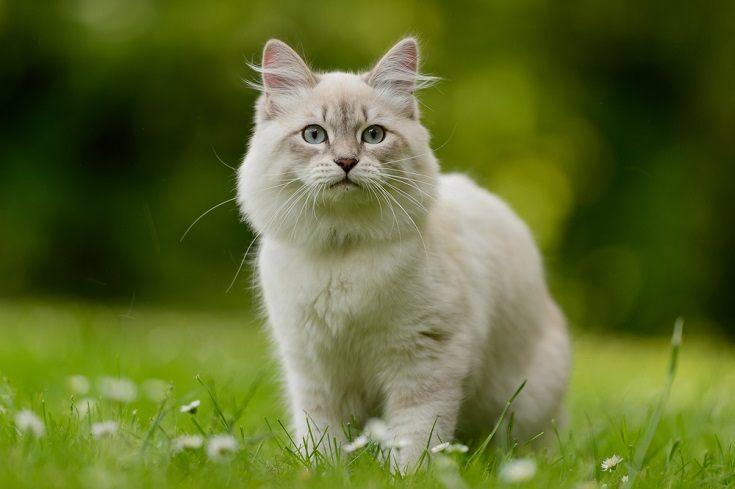cat: (233, 35, 570, 473)
